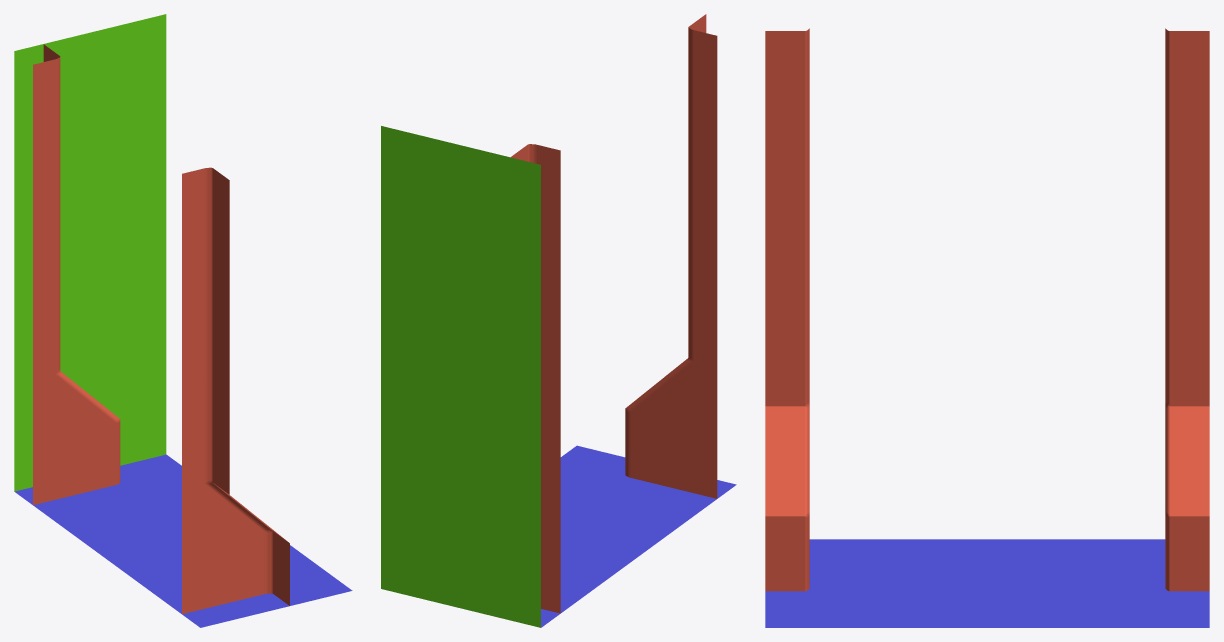
File: L1V2_Small_Passage_P4.fbx
3 views of the same model, side by side, from view 1: azimuth 30°, elevation 25°; view 2: azimuth 150°, elevation 25°; view 3: azimuth 270°, elevation 25° (orthographic). The views are drawn at different scales.
Visible parts, largest first — view 1: Wall.026; view 2: Wall.026; view 3: Wall.026.
Boxes of the visible parts, left/top/right/bottom form: Wall.026: left=14, top=14, right=352, bottom=627; Wall.026: left=381, top=14, right=736, bottom=627; Wall.026: left=765, top=28, right=1209, bottom=627.
Bounding box in the file's own units: 253 × 700 × 537.
